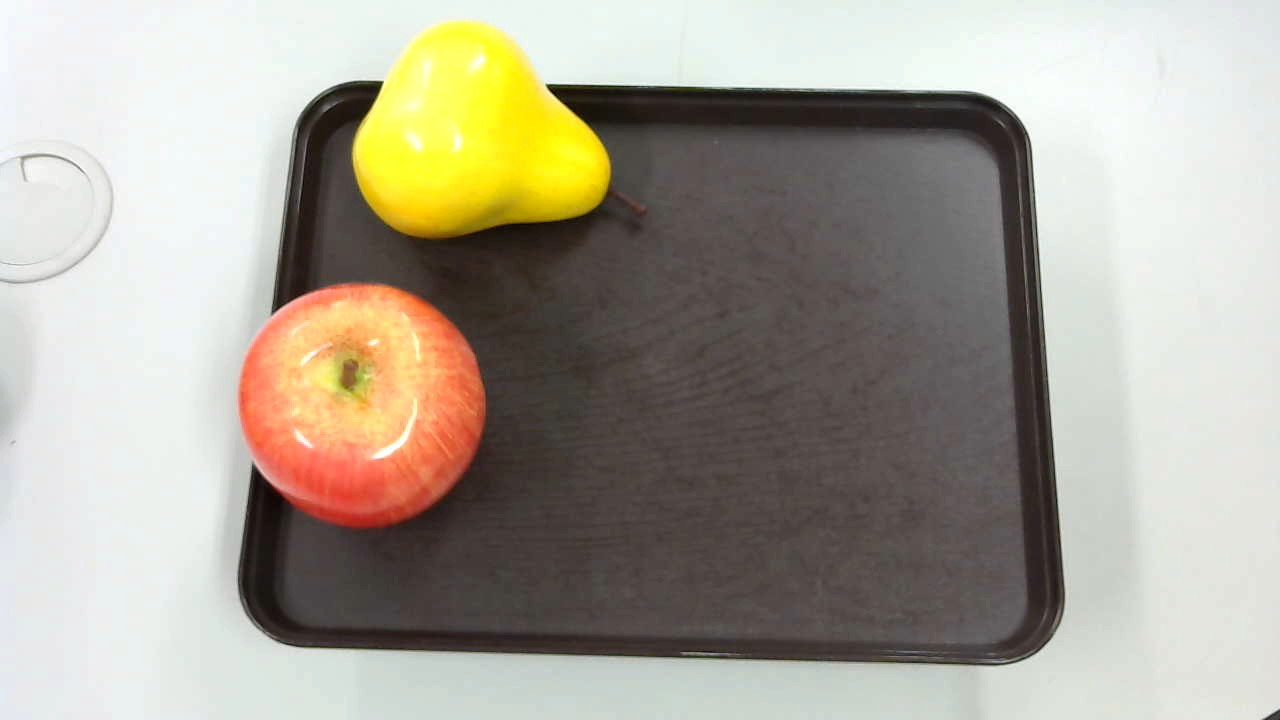red apple: (236, 281, 485, 525)
yellow pear: (343, 17, 658, 254)
